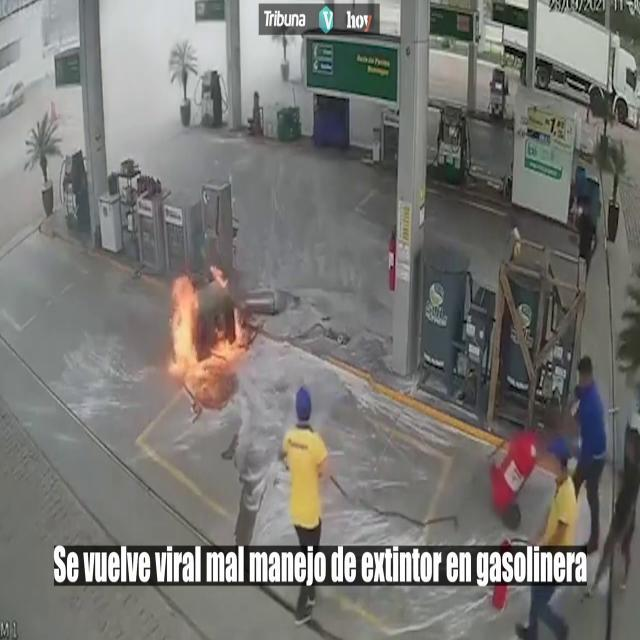Fire: (163, 264, 247, 409)
